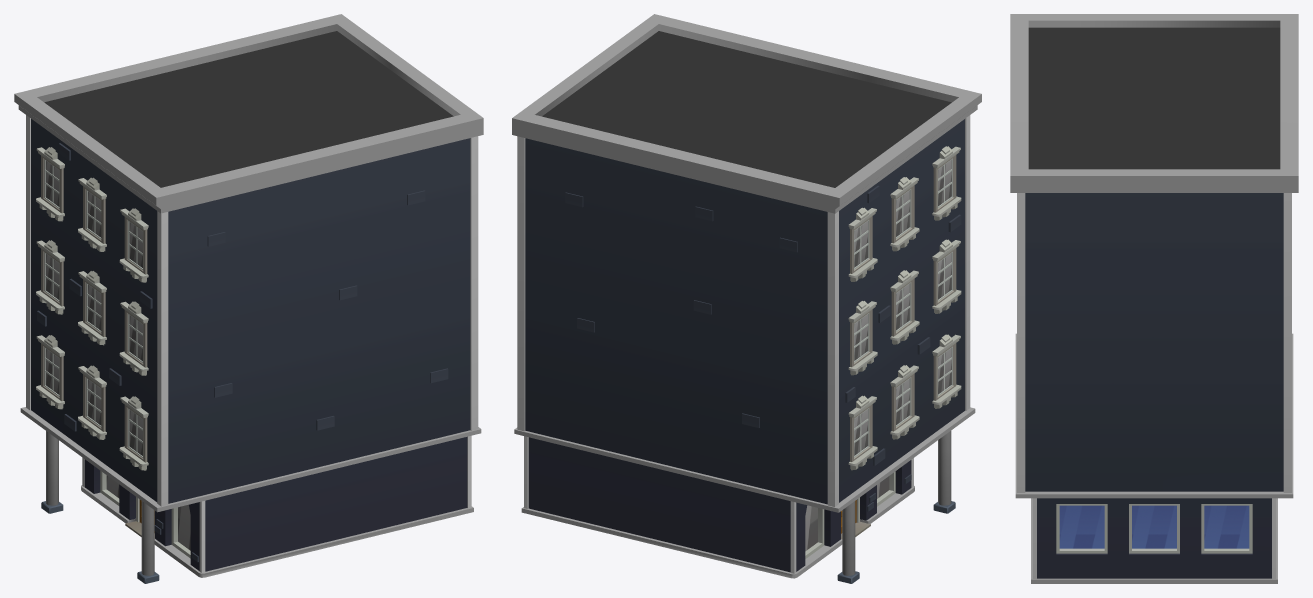
File: Building_4_L.fbx
3 renders of one model, left to right at view 1: azimuth 30°, elevation 25°; view 2: azimuth 150°, elevation 25°; view 3: azimuth 270°, elevation 25°, orthographic.
Visible parts, largest first — view 1: Building_4_L; view 2: Building_4_L; view 3: Building_4_L.
Part boxes in pixels (x1=…): Building_4_L: x1=14, y1=14, x2=483, y2=583; Building_4_L: x1=512, y1=14, x2=981, y2=583; Building_4_L: x1=1010, y1=14, x2=1298, y2=583.
Size of the model in its own units: 1585 by 1855 by 1191.
